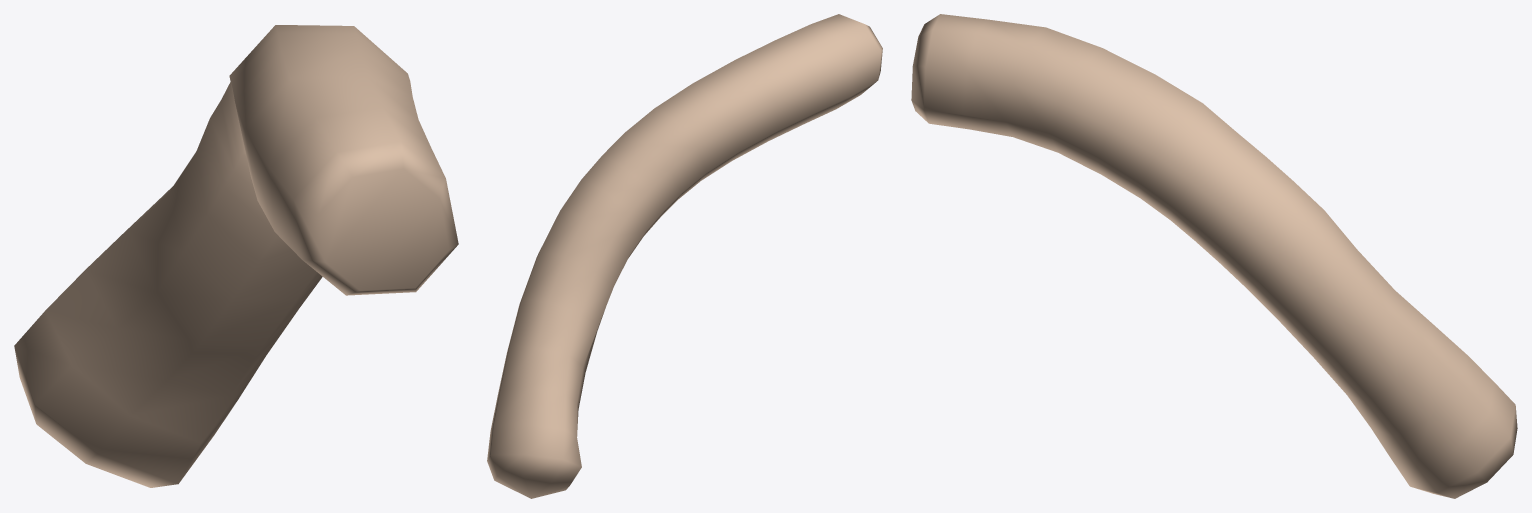
3 renders of one model, left to right at view 1: azimuth 30°, elevation 25°; view 2: azimuth 150°, elevation 25°; view 3: azimuth 270°, elevation 25°, orthographic. The views are drawn at different scales.
Visible parts, largest first — view 1: 右侧胫骨后肌腱鞘; view 2: 右侧胫骨后肌腱鞘; view 3: 右侧胫骨后肌腱鞘.
Boxes of the visible parts, x1=… form: 右侧胫骨后肌腱鞘: x1=14, y1=25, x2=458, y2=487; 右侧胫骨后肌腱鞘: x1=487, y1=14, x2=882, y2=498; 右侧胫骨后肌腱鞘: x1=911, y1=14, x2=1517, y2=498.
Size of the model in its own units: 0.025 by 0.0442 by 0.0584.
